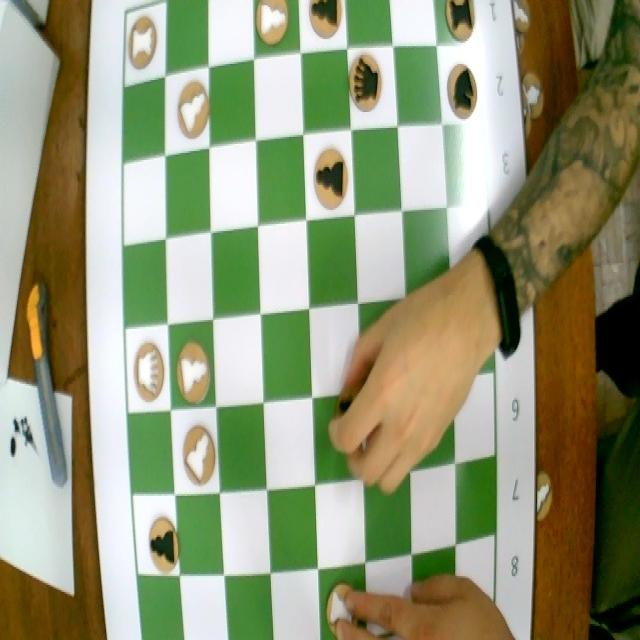chess-pieces: (174, 421, 220, 494), (345, 52, 387, 128), (442, 54, 482, 131), (128, 339, 170, 406), (173, 77, 210, 149), (312, 141, 350, 208), (176, 342, 214, 401), (306, 0, 348, 50), (127, 7, 161, 67), (254, 0, 292, 46), (146, 522, 182, 570), (446, 0, 481, 41)
